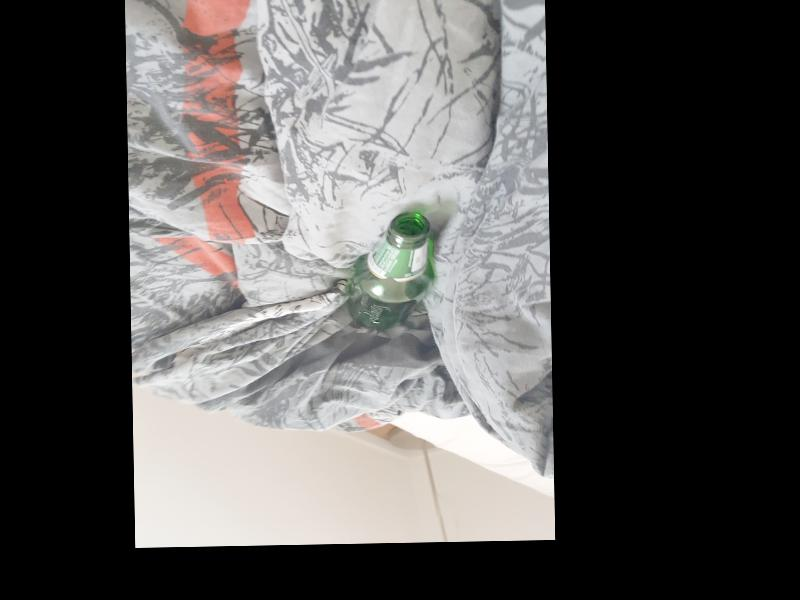Beer: (347, 211, 435, 331)
